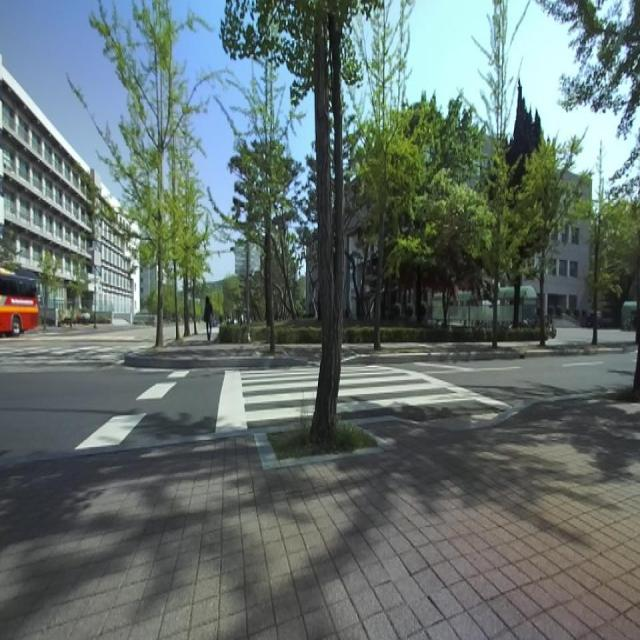sidewalk: (0, 399, 640, 639)
